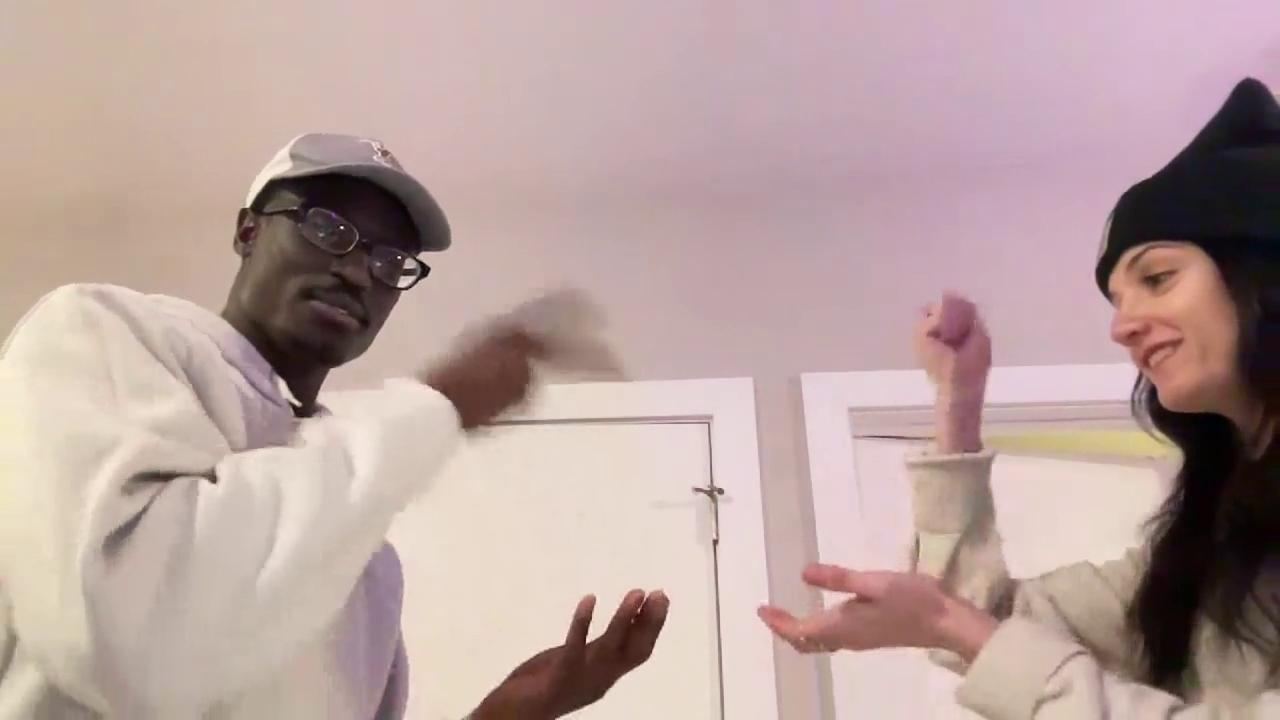Rock: (915, 293, 992, 404)
Scissors: (435, 292, 621, 432)
